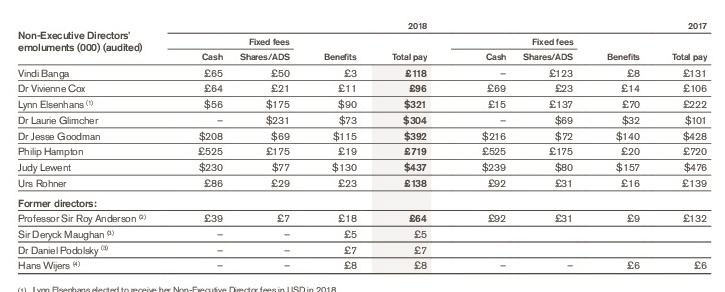table: (0, 0, 725, 292)
